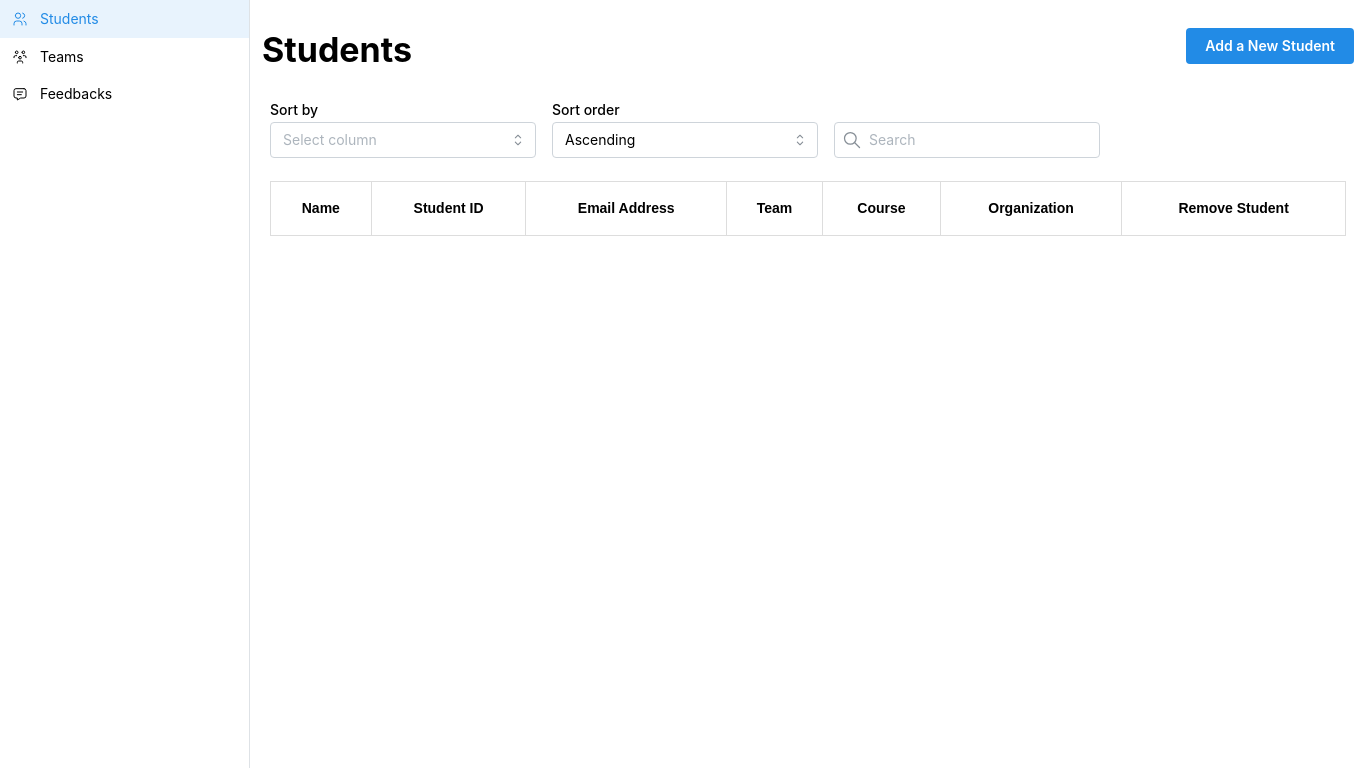
InstructorDashboard › display to select an organization after clicking create a new team
What coordinates should you click on to do the following:
click the icon with test id "Teams"
I would click on:
 (20, 56)
Its box is [12,48,28,64].
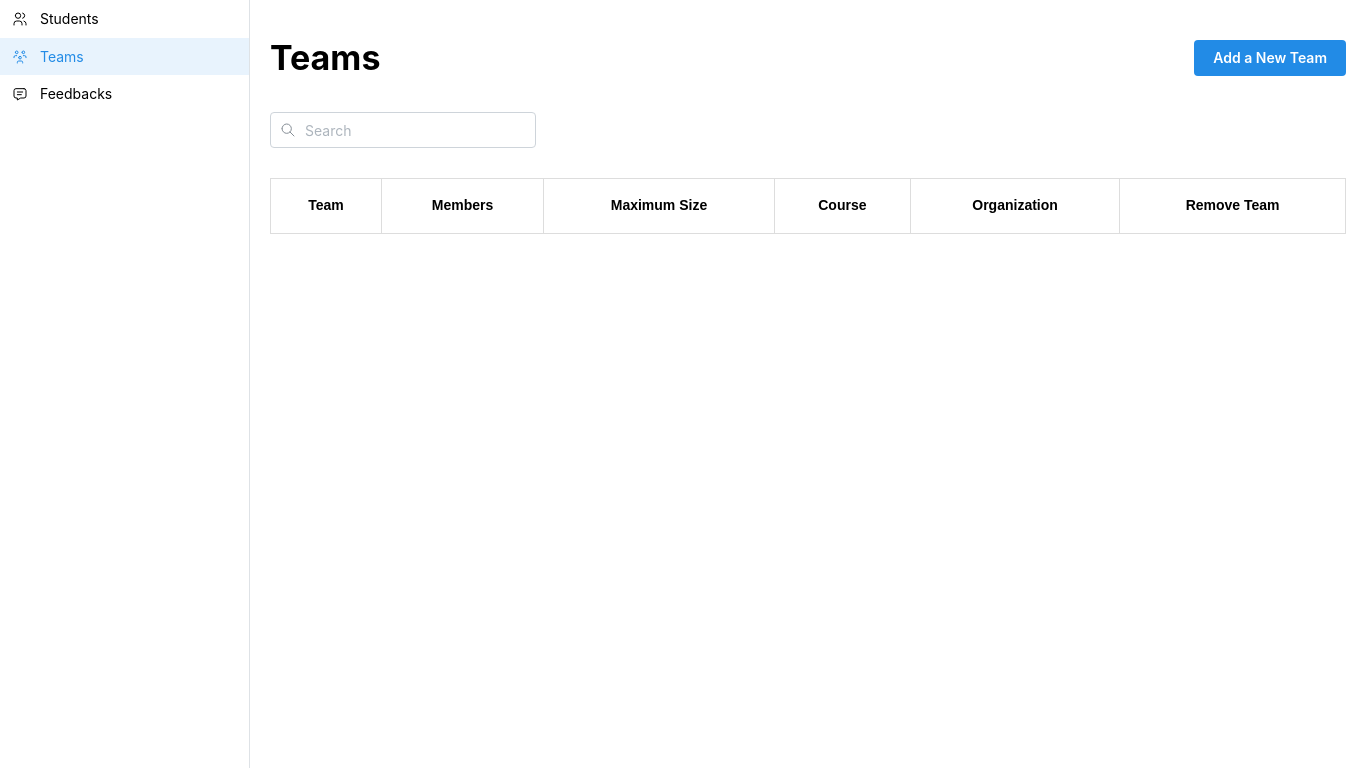
Now the heading "Teams" is shown, box [270,36,380,80]
Now the button with test id "newteam" is shown
What coordinates should you click on to do the following:
click the button with test id "newteam"
I would click on:
 (1270, 58)
Its box is [1194,40,1346,76].
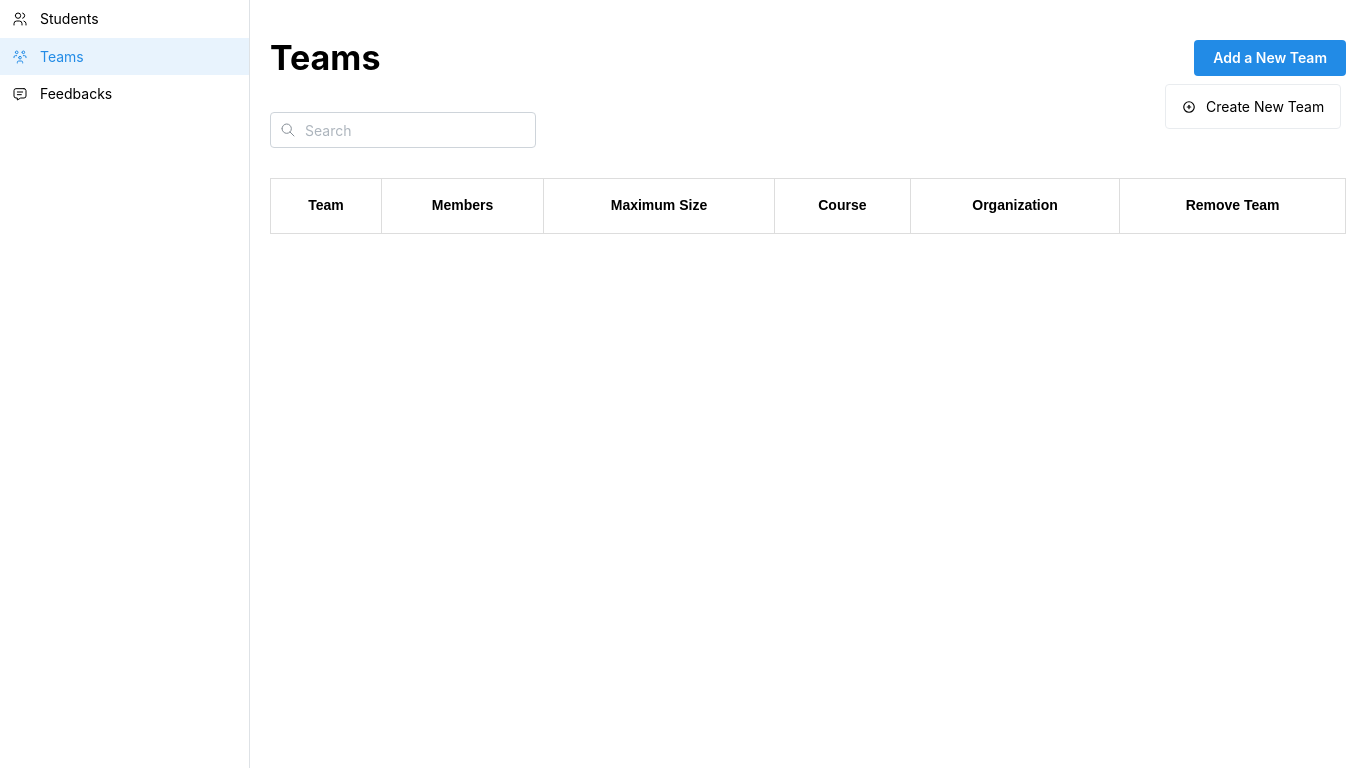
Now the text "Create New Team" is shown, box [1206,96,1324,118]
What coordinates should you click on to do the following:
click the menu item "Create New Team"
I would click on:
 (1253, 107)
Its box is [1170,89,1336,124].
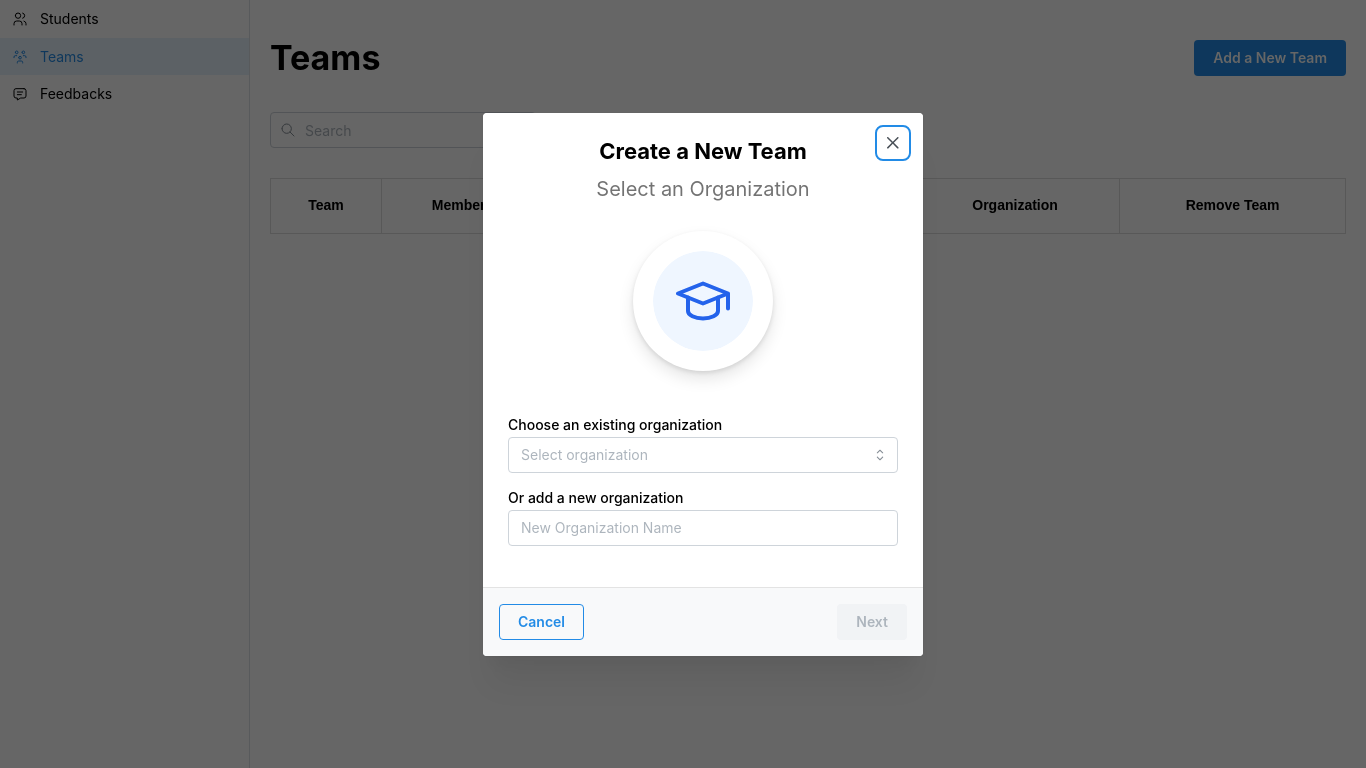
Now the text "Select an Organization" is shown, box [596,173,810,206]
